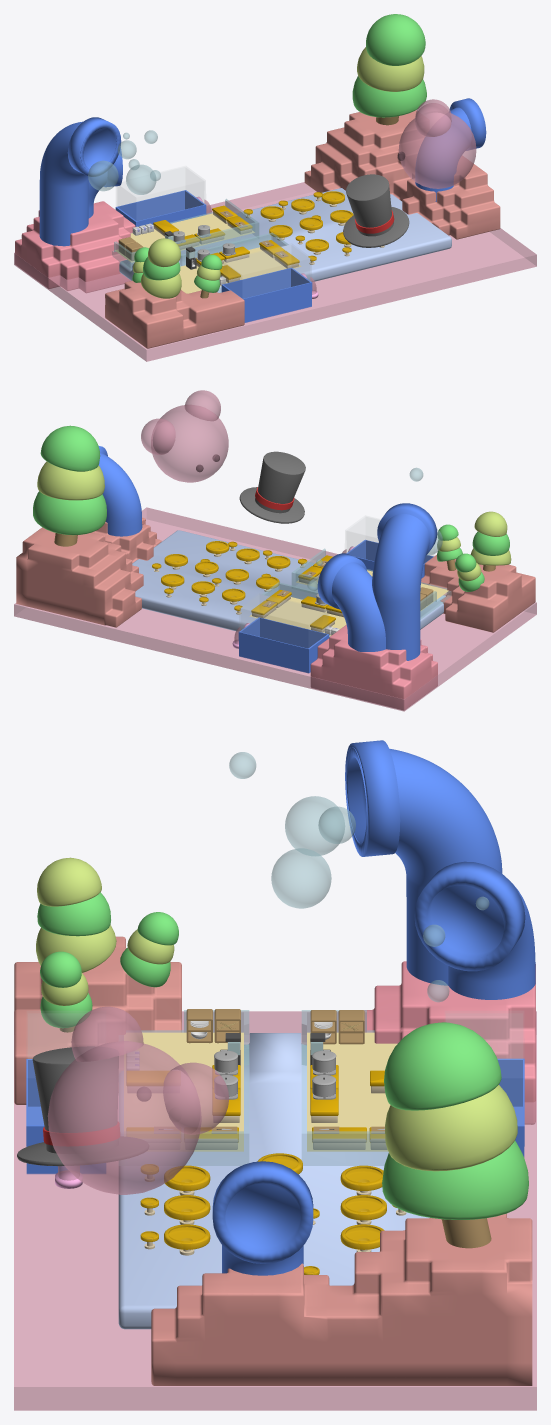
Rendered from world_stage02_250323_04.fbx.
3 renders of one model, top to bottom at view 1: azimuth 30°, elevation 25°; view 2: azimuth 150°, elevation 25°; view 3: azimuth 270°, elevation 25°, orthographic. The views are drawn at different scales.
Visible parts, largest first — view 1: world_floor, map_floor, pipe01, tree01, JellyMachine_B, JellyBear, kitchen_floor, JellyMachine_A, pipe02, hat, JellyTable, tree02 (+6 smaller); view 2: world_floor, pipe01, map_floor, tree01, JellyBear, JellyMachine_A, hat, kitchen_floor, JellyTable, pipe02, tree02, JellyMachine_B (+5 smaller); view 3: world_floor, pipe01, map_floor, tree01, JellyBear, kitchen_floor, hat, pipe02, tree02, JellyTable, JellyMachine_B, JellyMachine_A (+10 smaller).
Boxes of the visible parts, x1,y1,x2,y2 form: world_floor: [14, 110, 536, 361]; map_floor: [119, 188, 451, 292]; pipe01: [39, 117, 122, 246]; tree01: [352, 14, 426, 125]; JellyMachine_B: [221, 244, 318, 322]; JellyBear: [397, 99, 476, 188]; kitchen_floor: [112, 199, 301, 293]; JellyMachine_A: [115, 166, 211, 226]; pipe02: [415, 98, 486, 201]; hat: [343, 174, 409, 247]; JellyTable: [260, 191, 353, 254]; tree02: [141, 238, 181, 298]; world_floor: [14, 507, 536, 711]; pipe01: [317, 503, 437, 660]; map_floor: [132, 530, 445, 636]; tree01: [33, 425, 106, 546]; JellyBear: [141, 390, 228, 482]; JellyMachine_A: [232, 593, 329, 673]; hat: [239, 451, 305, 523]; kitchen_floor: [249, 548, 451, 636]; JellyTable: [161, 541, 290, 604]; pipe02: [98, 445, 142, 536]; tree02: [470, 511, 511, 571]; JellyMachine_B: [342, 516, 434, 578]; world_floor: [14, 936, 536, 1410]; pipe01: [345, 740, 535, 999]; map_floor: [118, 1033, 429, 1329]; tree01: [382, 1022, 528, 1248]; JellyBear: [47, 1006, 229, 1194]; kitchen_floor: [124, 1010, 397, 1165]; hat: [17, 1046, 148, 1166]; pipe02: [212, 1161, 313, 1275]; tree02: [36, 857, 116, 972]; JellyTable: [164, 1153, 386, 1255]; JellyMachine_B: [26, 1011, 105, 1188]; JellyMachine_A: [445, 1011, 524, 1157].
Size of the model in its own units: 3400 by 1483 by 2000.
